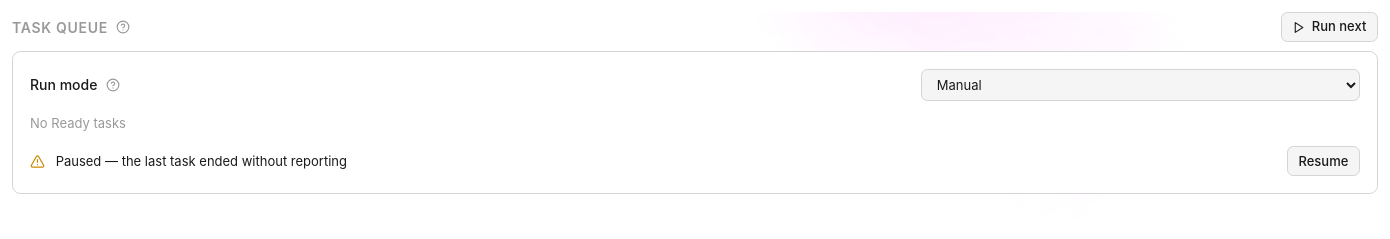
Scenario: AgentTasksTab › keeps the paused line and says why when Resume is refused
Expected: the element showing "Paused — the last task ended without reporting Resume" is shown, [30,146,1360,176]
Click the button "Resume" at (1323, 161), box [1287,146,1360,176]
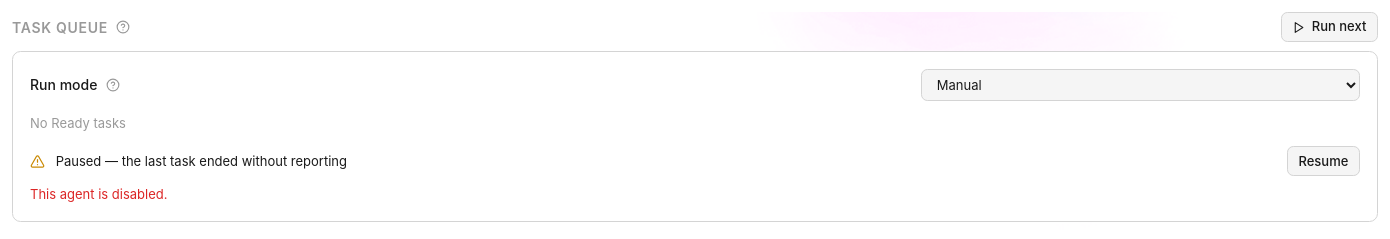
Expected: the element showing "Paused — the last task ended without reporting Resume" is shown, [30,146,1360,176]
Expected: the message reads "This agent is disabled.", [30,186,168,202]
